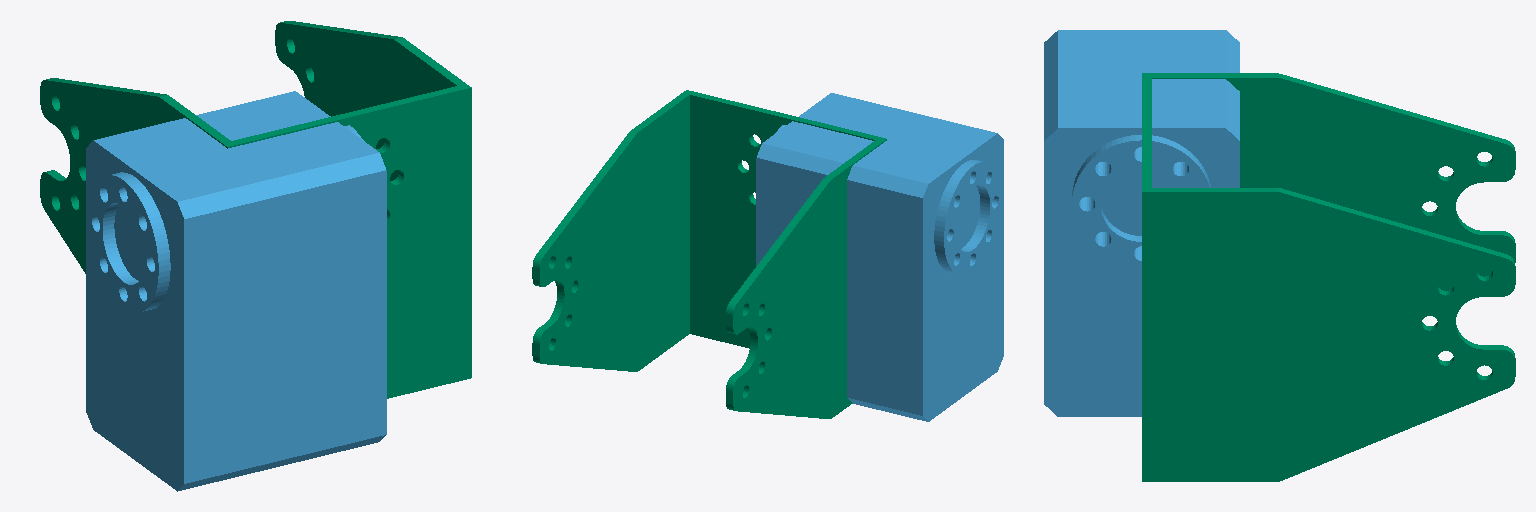
The robot description file, URDF, robot "kyun":
<robot name="kyun" xmlns:xacro="http://www.ros.org/wiki/xacro">

<link name="world"/>
<joint name="world_to_base" type="fixed">
  <origin xyz="0 0 0"/>
  <parent link="world"/>
  <child link="base_link"/>
</joint>

<link name="base_link">
  <visual>
    <geometry>
      <mesh filename="package://kyun_description/mesh/servo01.stl" scale="0.001 0.001 0.001"/>
      <origin xyz="0 0 0"/>
    </geometry>
  </visual>
  <collision>
    <geometry>
      <mesh filename="package://kyun_description/mesh/servo01.stl" scale="0.001 0.001 0.001"/>
      <origin xyz="0 0 0"/>
    </geometry>
  </collision>
</link>

<joint name="base_to_2nd" type="continuous">
  <parent link="base_link"/>
  <child link="2nd_link"/>
  <origin xyz="0 0 0" rpy="0 0 0"/>
  <axis xyz="0 0 1"/>
  <dynamics damping="0.1"/>
</joint>

<link name="2nd_link">
  <visual>
    <geometry>
      <mesh filename="package://kyun_description/mesh/frame12.stl" scale="0.001 0.001 0.001"/>
    </geometry>
  </visual>
  <collision>
    <geometry>
      <mesh filename="package://kyun_description/mesh/frame12.stl" scale="0.001 0.001 0.001"/>
    </geometry>
  </collision>
</link>
</robot>

--- What the picture shows (computed from the rendered views, not written in the file) ---
Views: 3 orthographic renders of the robot side by side, from view 1: azimuth 30°, elevation 25°; view 2: azimuth 150°, elevation 25°; view 3: azimuth 270°, elevation 25°.
Model kyun with 3 links and 2 joints (1 continuous, 1 fixed), rooted at world, posed every joint at zero.
Visible links, largest first — view 1: base_link, 2nd_link; view 2: 2nd_link, base_link; view 3: 2nd_link, base_link.
Boxes of the visible links, x1,y1,x2,y2 form: base_link: (86, 91, 386, 491); 2nd_link: (40, 21, 471, 398); 2nd_link: (532, 90, 886, 418); base_link: (756, 93, 1003, 421); 2nd_link: (1142, 73, 1515, 481); base_link: (1044, 30, 1239, 416).
Size in the robot's own frame: 0.0585 by 0.0688 by 0.0468 metres.
2 mesh visuals loaded from 2 distinct referenced files (2 binary STL).
